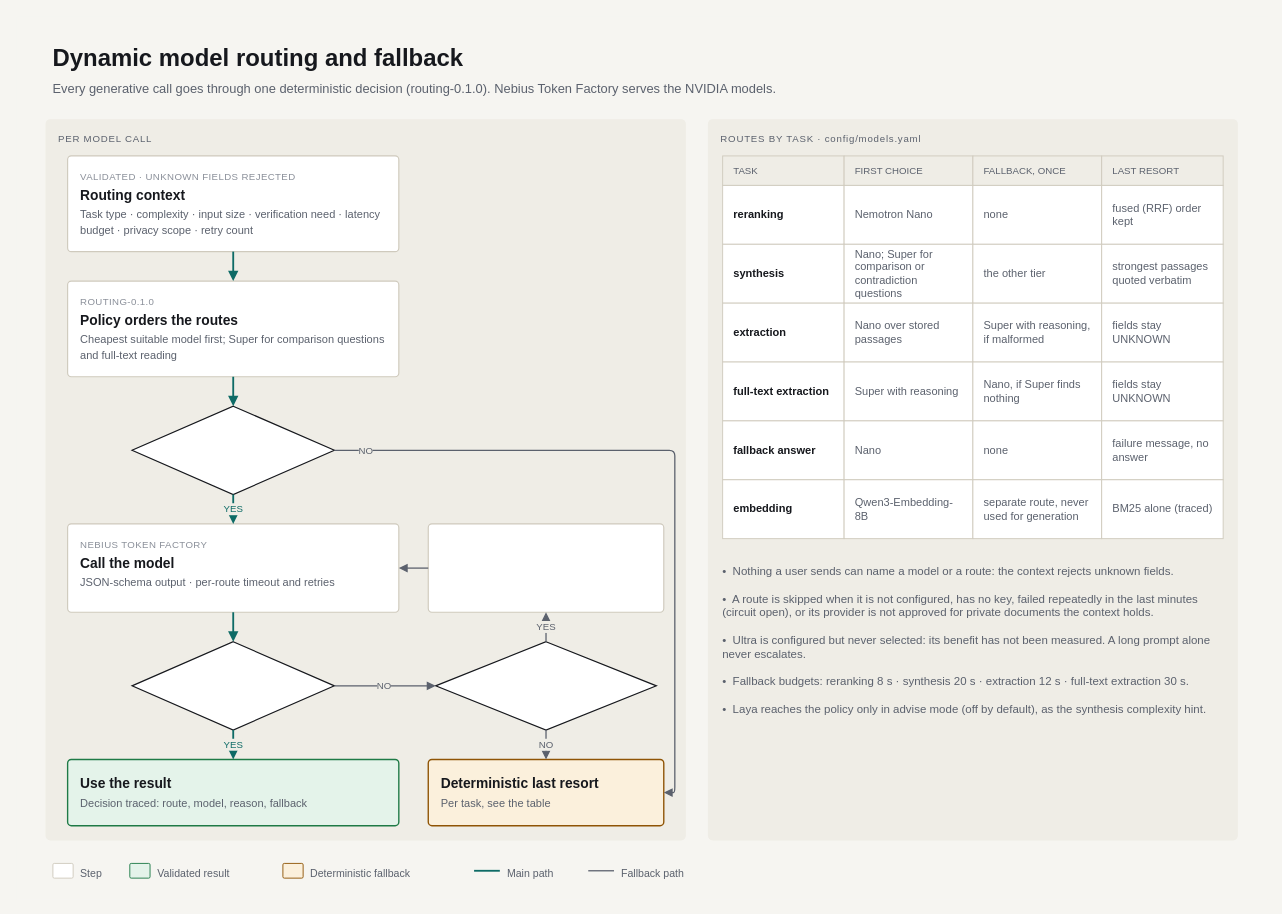
This 1282x914 diagram has some shape labels left out. Each missing label, with the box of its shape:
Fallback fits the latency budget?: (435, 641, 657, 730)
First usable route in the order?: (131, 405, 335, 495)
ONCE Other tier Nano and Super swap; the output is validated again: (427, 523, 664, 612)
Output valid?: (131, 641, 335, 730)
